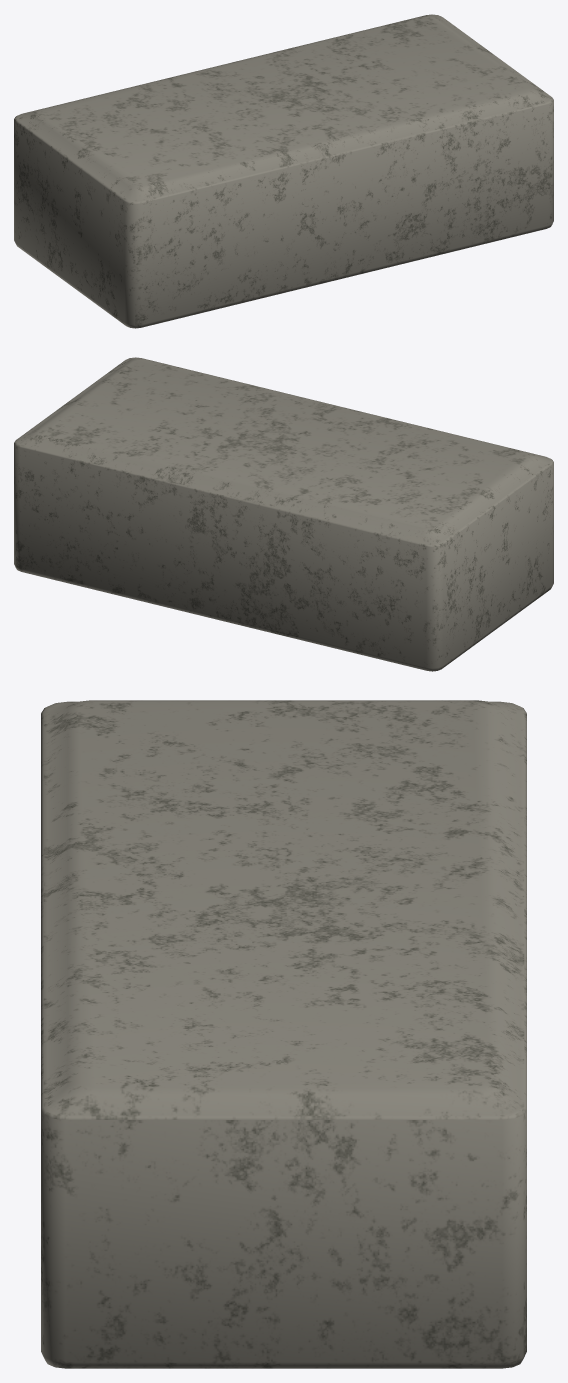
File: colonial-classic.gltf
The picture shows the model from 3 angles, top to bottom: view 1: azimuth 30°, elevation 25°; view 2: azimuth 150°, elevation 25°; view 3: azimuth 270°, elevation 25°; orthographic projection. The views are drawn at different scales.
Parts seen in each view (by area): view 1: Colonial Classic.011; view 2: Colonial Classic.011; view 3: Colonial Classic.011.
Boxes of the visible parts, x1,y1,x2,y2 form: Colonial Classic.011: (14, 14, 553, 328); Colonial Classic.011: (14, 357, 553, 671); Colonial Classic.011: (41, 700, 526, 1368).
Size of the model in its own units: 0.2 by 0.0603 by 0.0984.
1 material, 1 textured.
